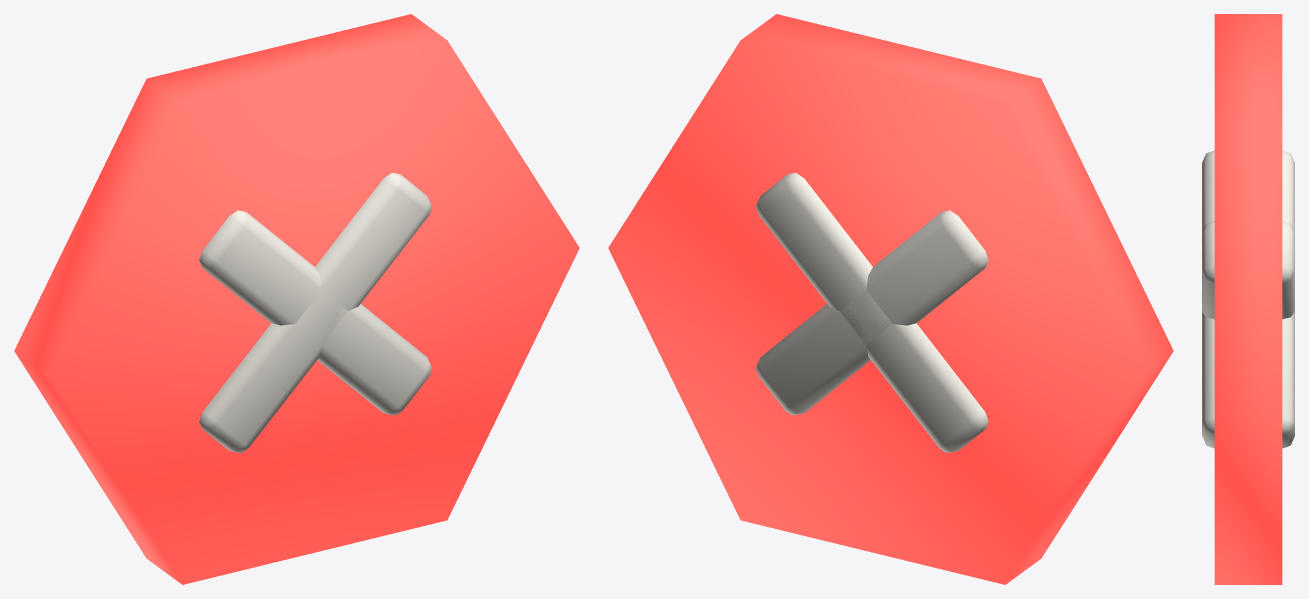
File: Feedback_Error.fbx
3 views of the same model, side by side, from view 1: azimuth 30°, elevation 25°; view 2: azimuth 150°, elevation 25°; view 3: azimuth 270°, elevation 25° (orthographic). The views are drawn at different scales.
Parts seen in each view (by area): view 1: FeedbackError_StatusRed, FeedbackError_CreamCeramic; view 2: FeedbackError_StatusRed, FeedbackError_CreamCeramic; view 3: FeedbackError_StatusRed, FeedbackError_CreamCeramic.
Boxes of the visible parts, box(x1,y1,x2,y2) form: FeedbackError_StatusRed: box(14, 14, 579, 584); FeedbackError_CreamCeramic: box(199, 172, 432, 452); FeedbackError_StatusRed: box(608, 14, 1173, 584); FeedbackError_CreamCeramic: box(755, 172, 988, 452); FeedbackError_StatusRed: box(1214, 14, 1282, 584); FeedbackError_CreamCeramic: box(1202, 150, 1294, 448).
Size of the model in its own units: 3.4 by 2.94 by 0.55.
